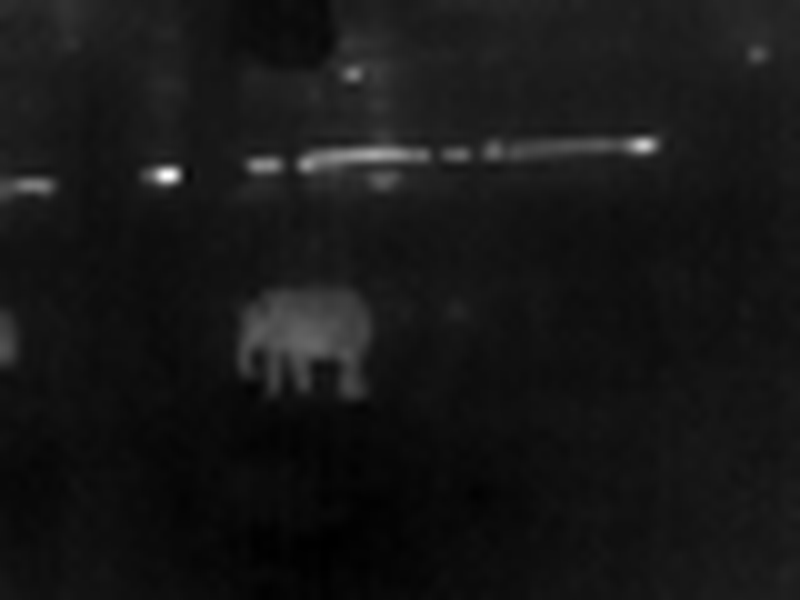elephant: (226, 282, 381, 410)
